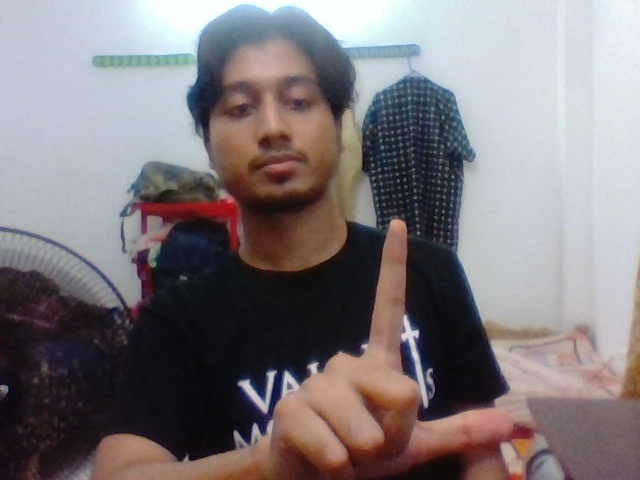L: (328, 207, 529, 460)
